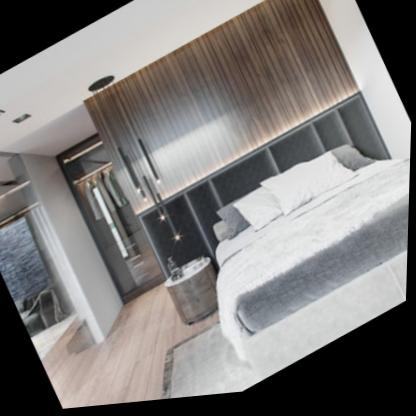Bed: (191, 106, 413, 359)
Transparent Closet: (50, 129, 169, 314)
Wall Panel: (82, 0, 366, 225)
Wooden floor: (55, 287, 186, 410)
